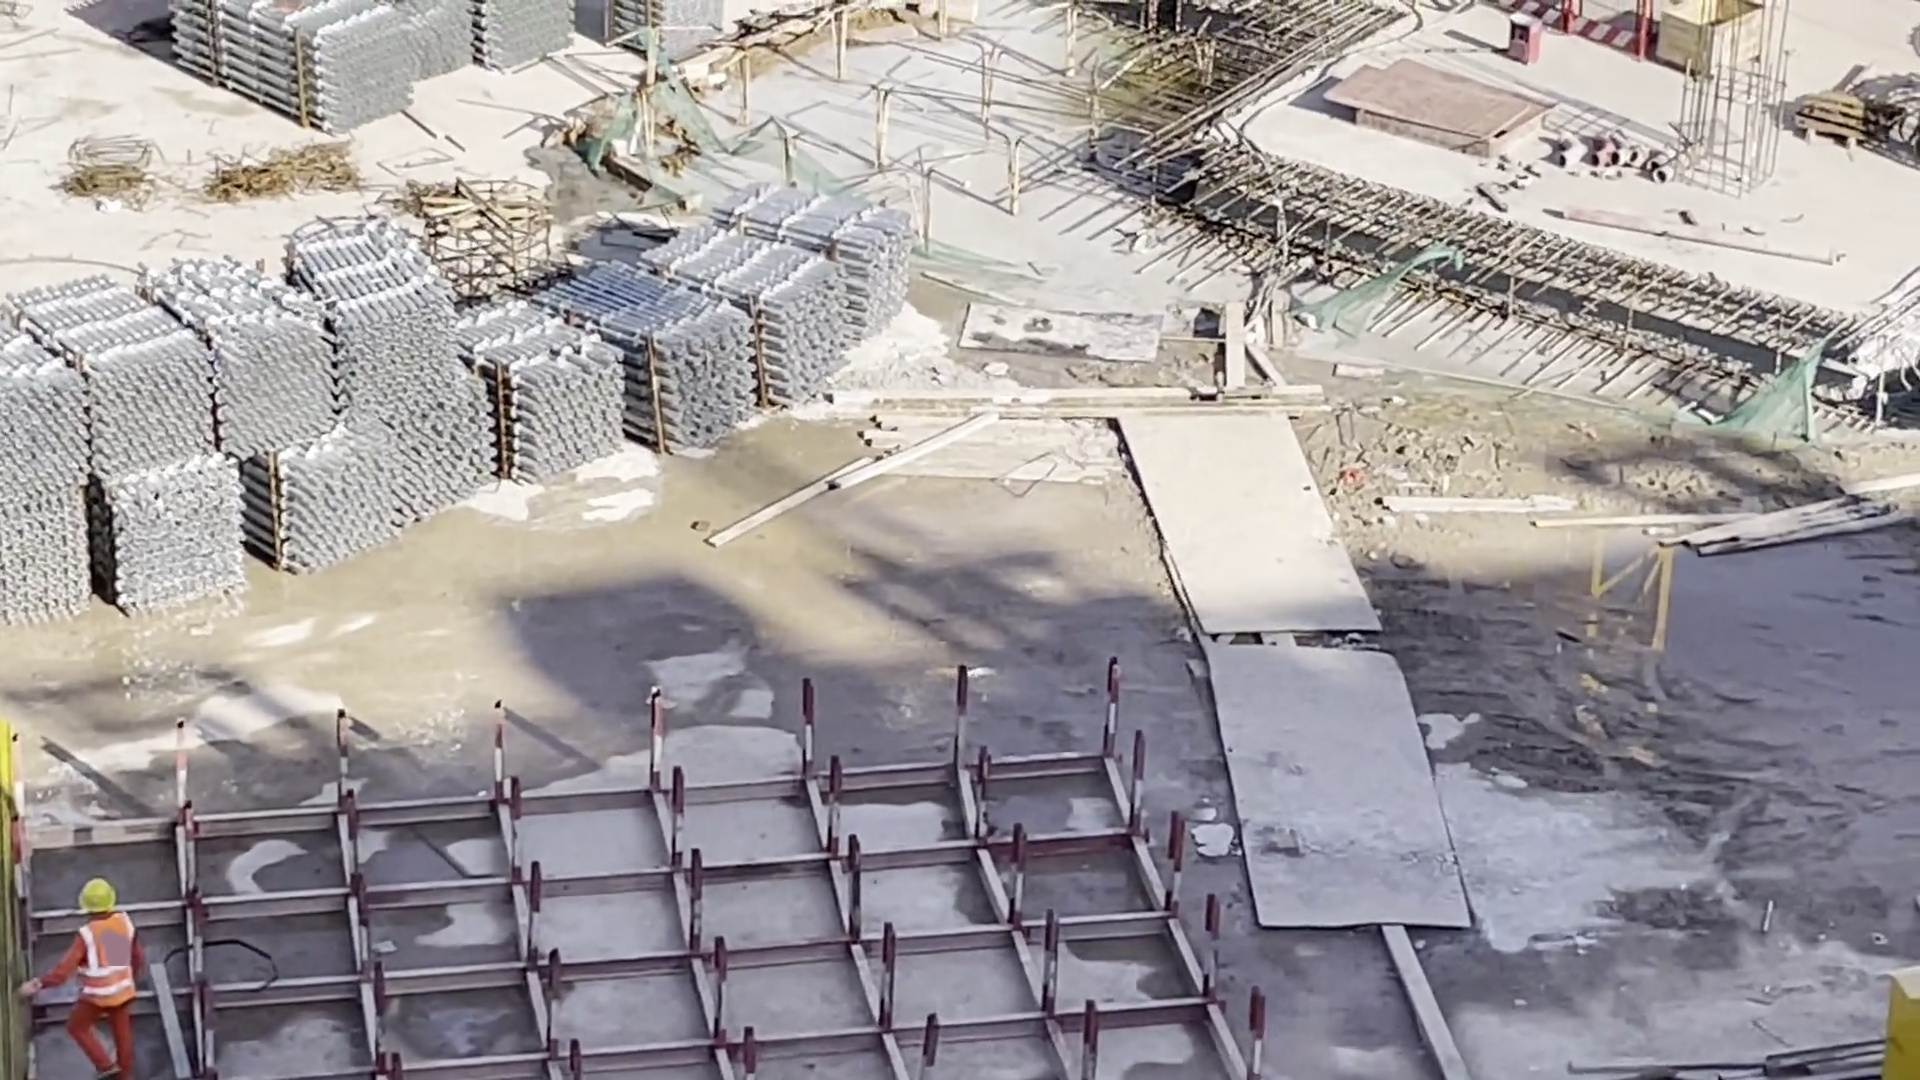board: (1313, 51, 1548, 146)
helmet: (51, 876, 128, 919)
person: (45, 869, 155, 1080)
scaffold: (1, 177, 913, 630), (180, 1, 736, 128)
vest: (75, 920, 150, 1007)
